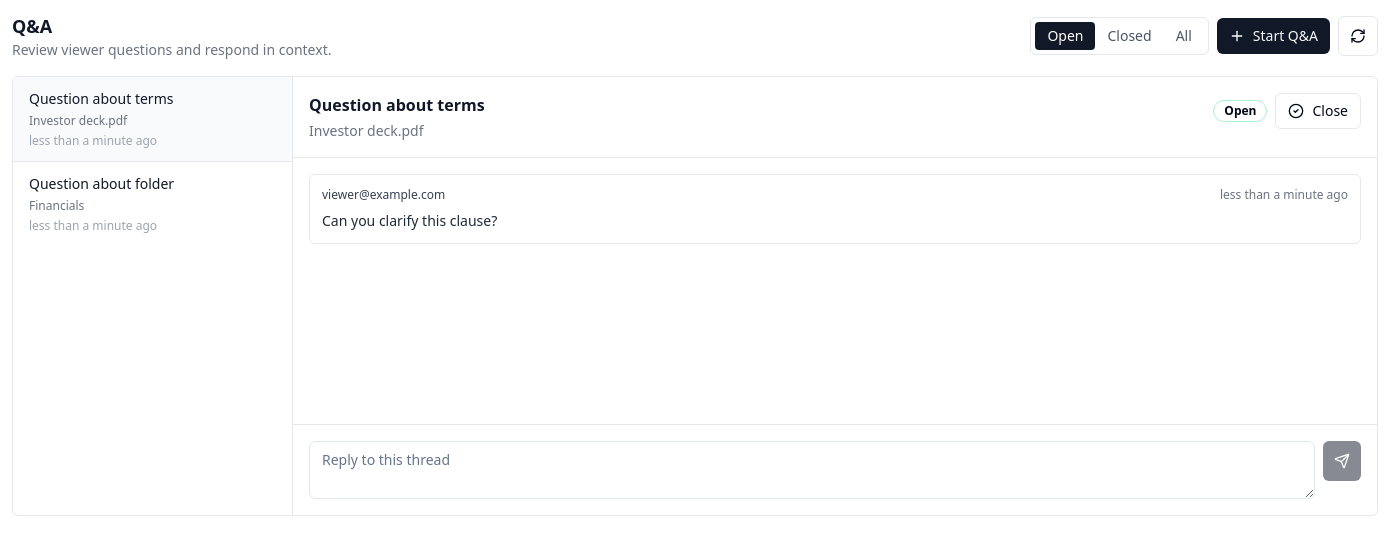
Test: OwnerQnAManager › clears the active selection when a filtered thread is closed
Check: the text "Can you clarify this clause?" is shown, box [322,211,497,230]
Click the button "Close".
click(1318, 111)  # box [1276,93,1361,129]
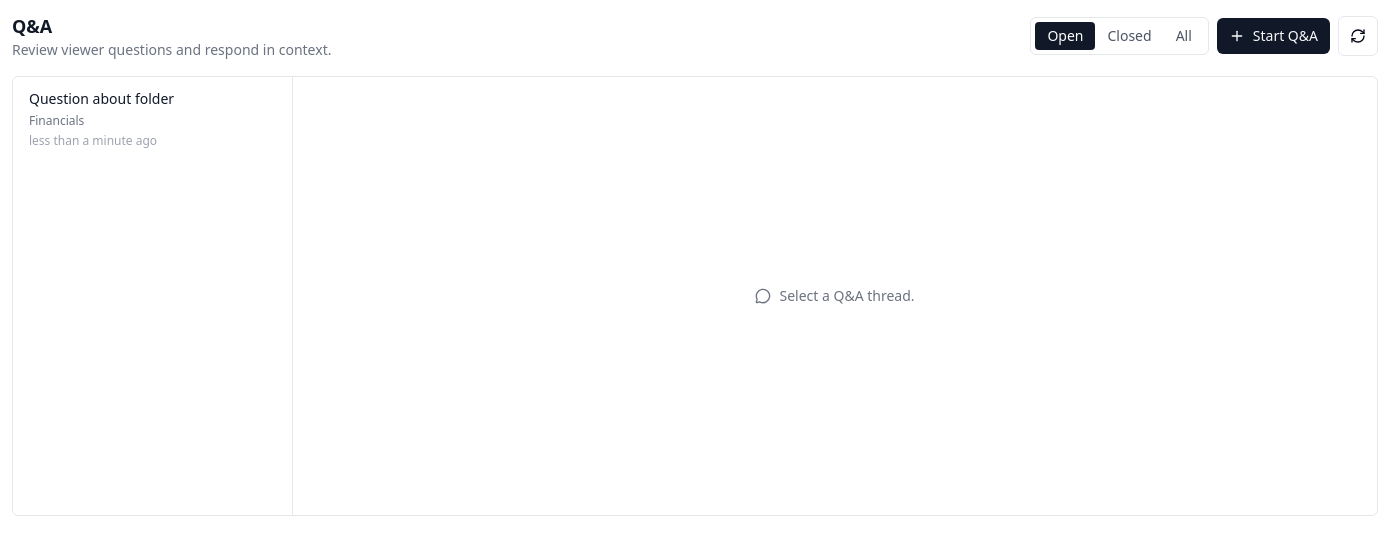
Check: the text "Question about folder" is shown, box [29,89,174,109]
Check: the text "Select a Q&A thread." is shown, box [756,286,915,305]
